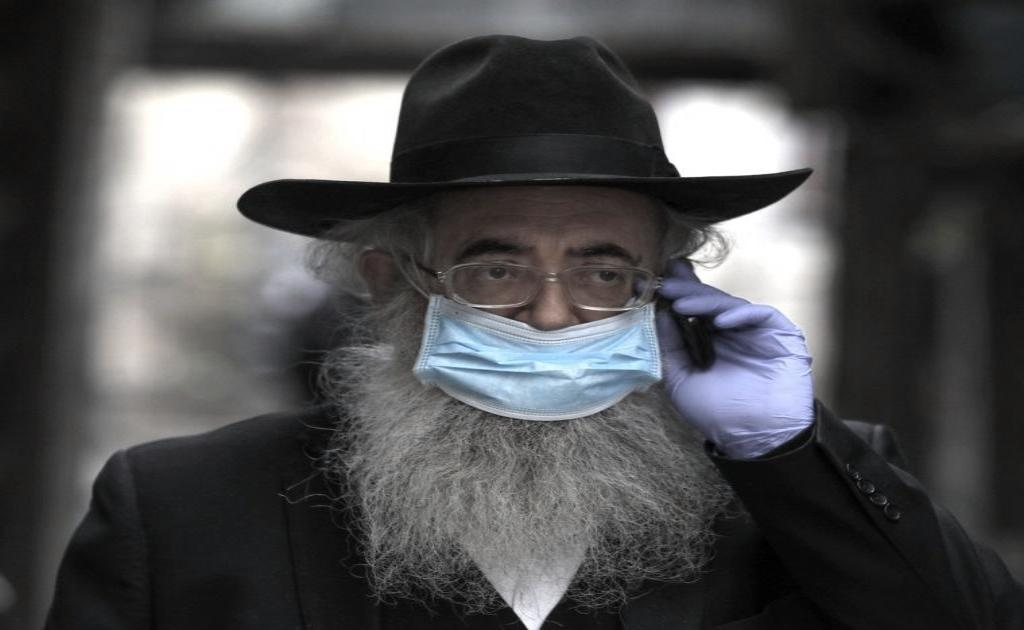mask_weared_incorrect: (362, 192, 683, 427)
